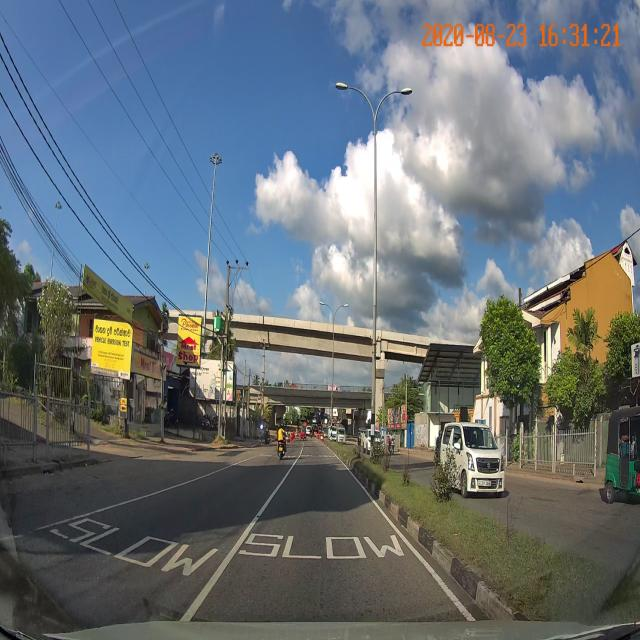SLOW: (44, 517, 221, 581), (235, 532, 405, 561)
